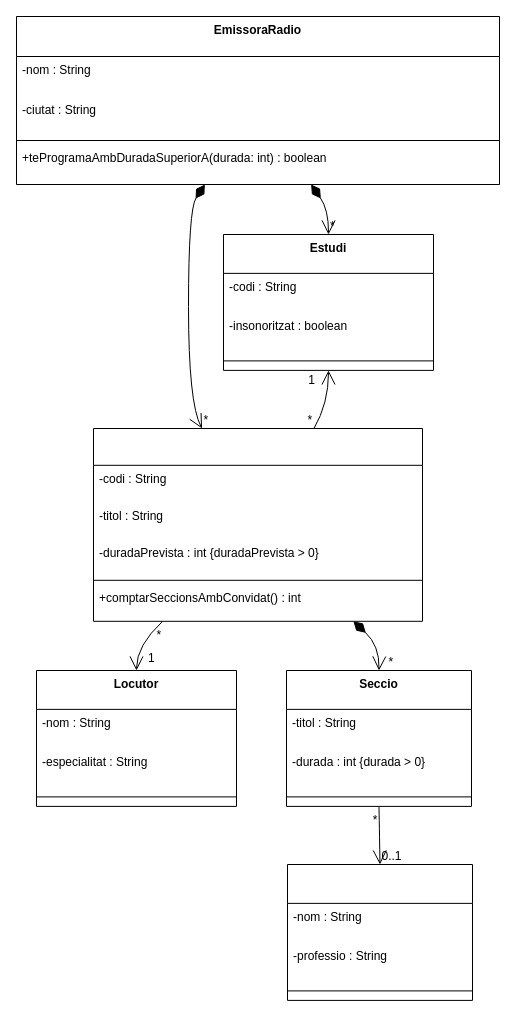
Some shapes in this 516 by 1017 pixel diagram are drawn without their labels. The shapes that lost their labels are listed below. From the top down, each one's box as (x1, y1, x2, y2) in pixels, then its label:
(92, 428, 422, 621): Programa
(286, 864, 472, 1000): Convidat
